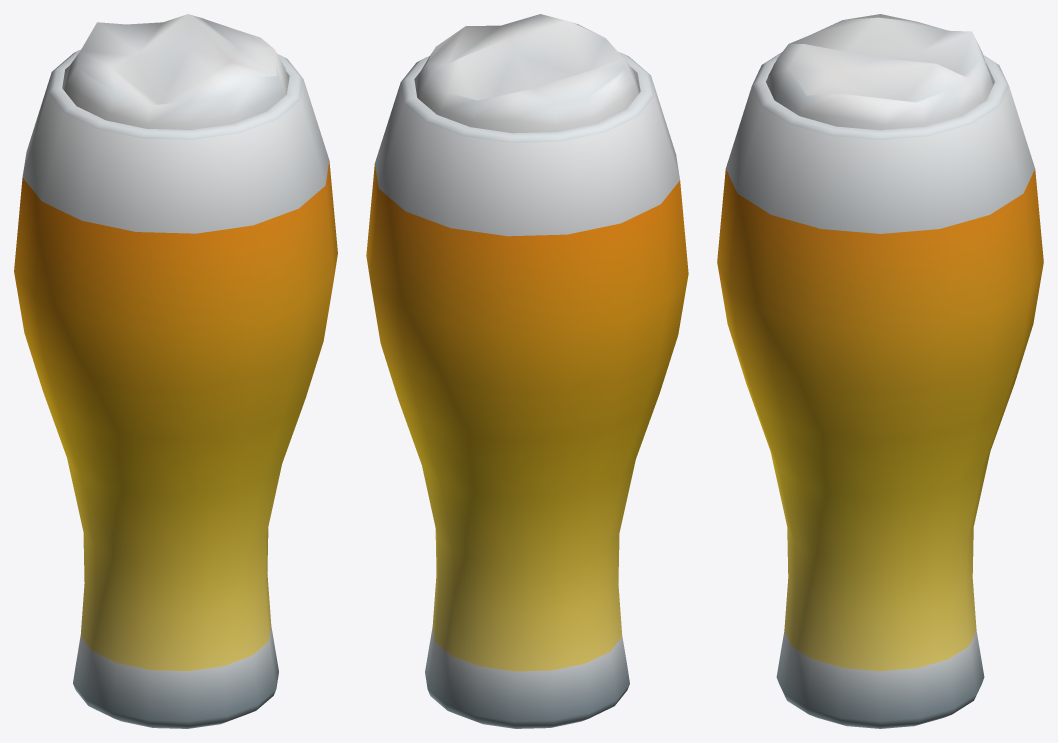
File: beer_001.fbx
The picture shows the model from 3 angles, left to right: view 1: azimuth 30°, elevation 25°; view 2: azimuth 150°, elevation 25°; view 3: azimuth 270°, elevation 25°; orthographic projection.
Visible parts, largest first — view 1: beer_001; view 2: beer_001; view 3: beer_001.
Part boxes in pixels (x1,y1,x2,y2): beer_001: (14,14,337,728); beer_001: (366,14,688,728); beer_001: (717,14,1043,728).
Size of the model in its own units: 10.63 by 10.63 by 23.24.
